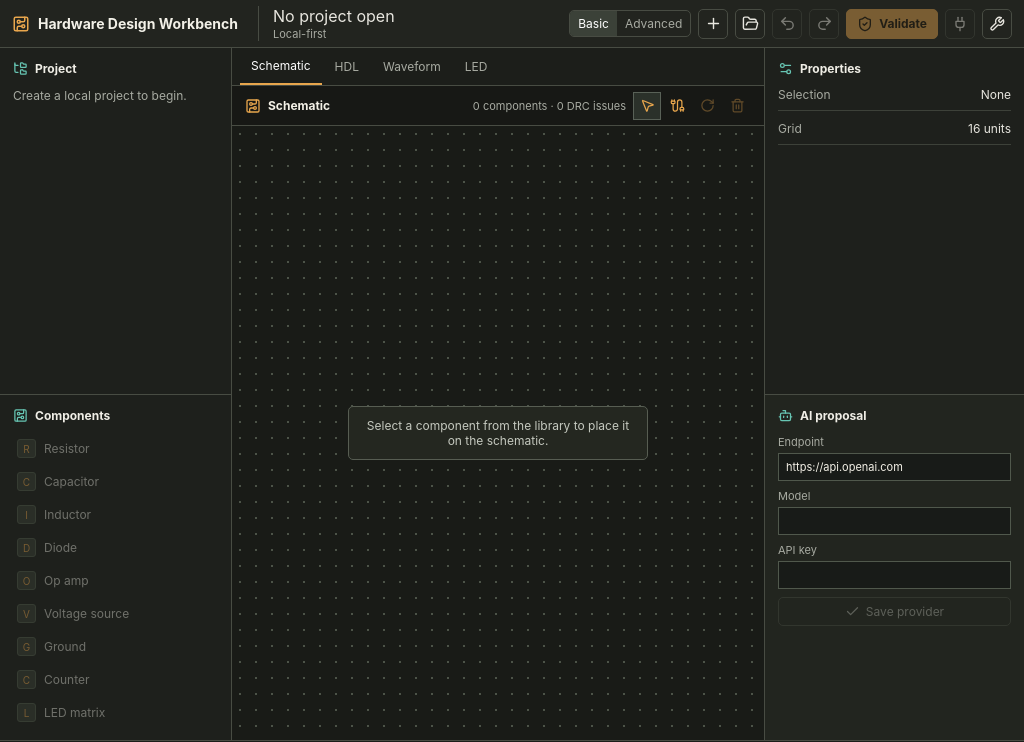
Test: App › reports installed local EDA tools
Click the button named "Tool doctor".
click(997, 24)  # box [982,8,1012,38]
(page scrolled)
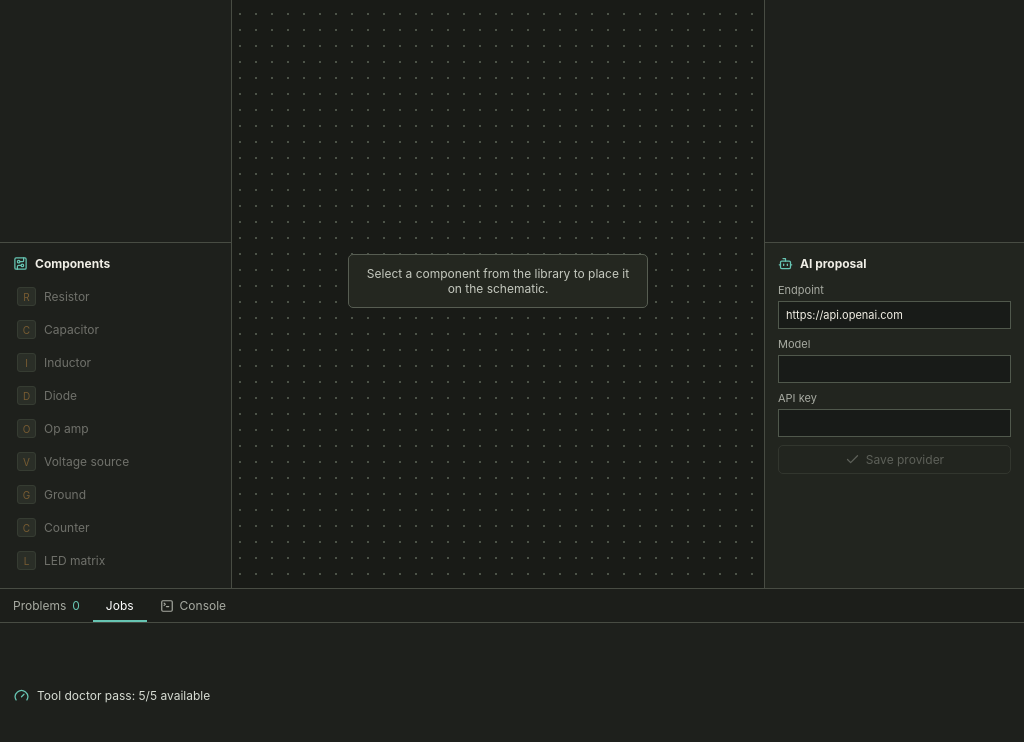
Expected: the text "Tool doctor pass: 5/5 available" is shown, [14,688,210,703]
